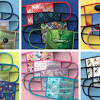cloth_mask: (28, 76, 80, 99)
